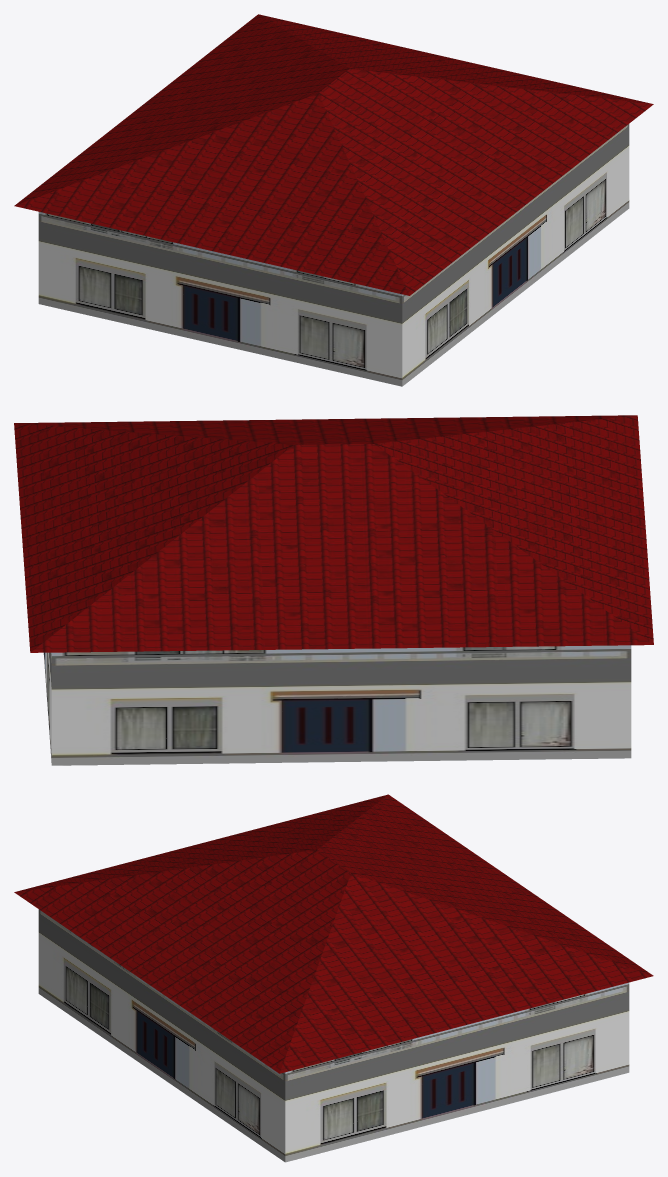
The picture shows the model from 3 angles, top to bottom: view 1: azimuth 30°, elevation 25°; view 2: azimuth 150°, elevation 25°; view 3: azimuth 270°, elevation 25°; orthographic projection. The views are drawn at different scales.
Visible parts, largest first — view 1: CityEngineMaterial_17_m, CityEngineMaterial_7_m; view 2: CityEngineMaterial_17_m, CityEngineMaterial_7_m; view 3: CityEngineMaterial_17_m, CityEngineMaterial_7_m.
Part boxes in pixels (<box>): CityEngineMaterial_17_m: <box>14,14,653,295</box>; CityEngineMaterial_7_m: <box>38,124,629,386</box>; CityEngineMaterial_17_m: <box>14,415,653,652</box>; CityEngineMaterial_7_m: <box>43,645,631,765</box>; CityEngineMaterial_17_m: <box>14,794,653,1073</box>; CityEngineMaterial_7_m: <box>38,909,629,1162</box>.
Bounding box in the file's own units: 34.76 × 9.96 × 33.65.
